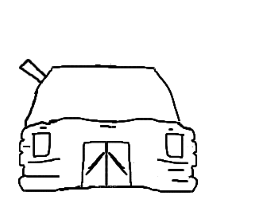bottom_placed_house: (1, 0, 260, 204)
chimney: (12, 48, 51, 90)
door: (68, 136, 142, 195)
open_window: (159, 130, 189, 163), (29, 128, 58, 159)
roof: (12, 52, 189, 127)
wall: (5, 113, 204, 196)
